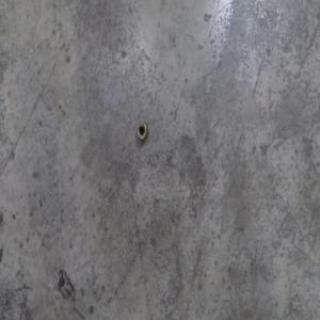Nuttrack_idkeyframe: (135, 120, 147, 142)
